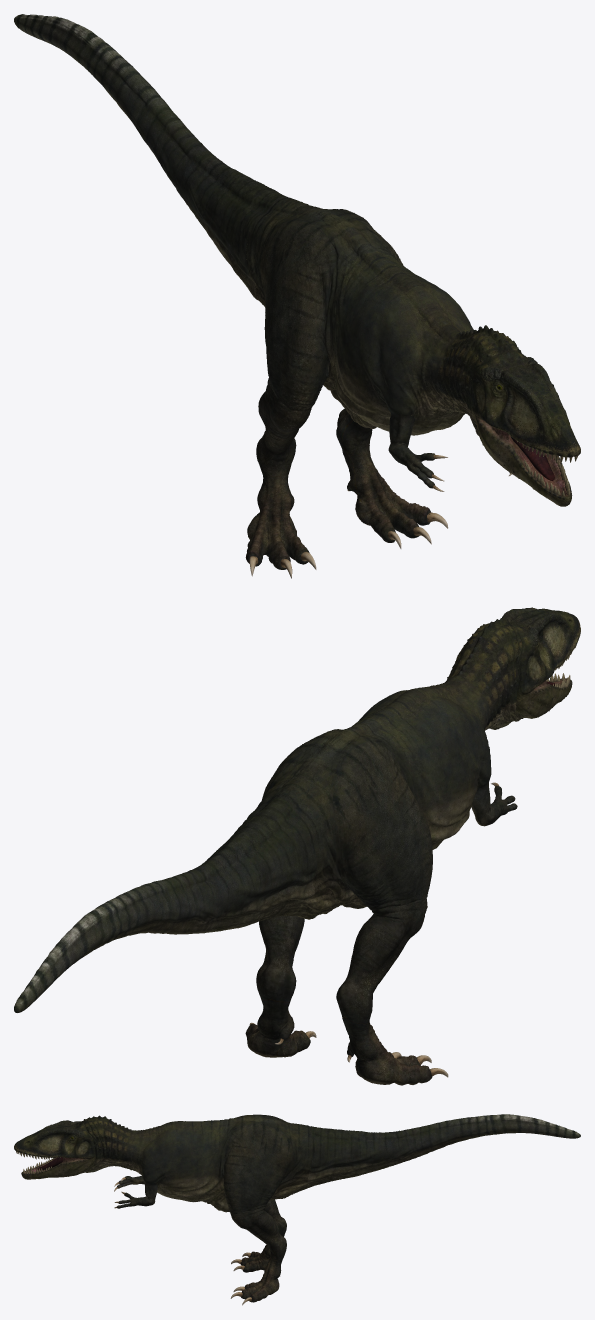
Rendered from carcharodontosaurus.glb.
3 views of the same model, one above another, from view 1: azimuth 30°, elevation 25°; view 2: azimuth 150°, elevation 25°; view 3: azimuth 270°, elevation 25° (orthographic). The views are drawn at different scales.
Visible parts, largest first — view 1: body1_leg_0, body1_body_0, body1_tail_0, body1_head_0, body1_lambert1_0; view 2: body1_leg_0, body1_body_0, body1_tail_0, body1_head_0, body1_lambert1_0; view 3: body1_body_0, body1_leg_0, body1_tail_0, body1_head_0, body1_lambert1_0.
Part boxes in pixels (bbox=[...]): body1_leg_0: bbox=[245, 209, 478, 569]; body1_body_0: bbox=[246, 196, 473, 435]; body1_tail_0: bbox=[14, 14, 300, 307]; body1_head_0: bbox=[437, 325, 580, 506]; body1_lambert1_0: bbox=[249, 437, 577, 578]; body1_leg_0: bbox=[245, 733, 517, 1085]; body1_body_0: bbox=[255, 675, 491, 919]; body1_tail_0: bbox=[14, 798, 316, 1012]; body1_head_0: bbox=[446, 607, 580, 730]; body1_lambert1_0: bbox=[249, 645, 576, 1077]; body1_body_0: bbox=[127, 1115, 312, 1212]; body1_leg_0: bbox=[117, 1114, 294, 1302]; body1_tail_0: bbox=[297, 1114, 580, 1192]; body1_head_0: bbox=[14, 1115, 132, 1179]; body1_lambert1_0: bbox=[16, 1151, 280, 1305].
Size of the model in its own units: 1.81 by 2.94 by 8.95.
6 materials, 6 textured.
